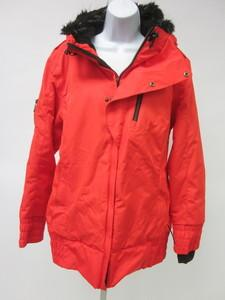C_jacket: (19, 3, 208, 291)
